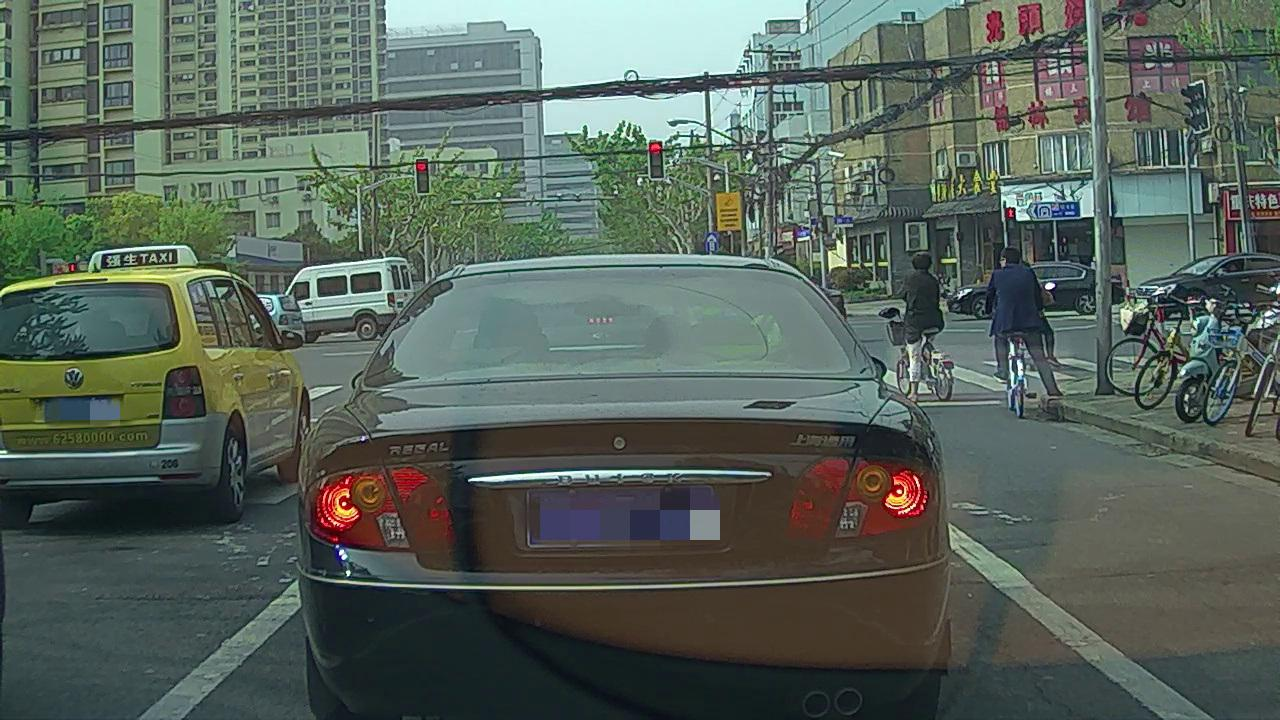traffic_light: (413, 158, 430, 194), (651, 142, 665, 179)
